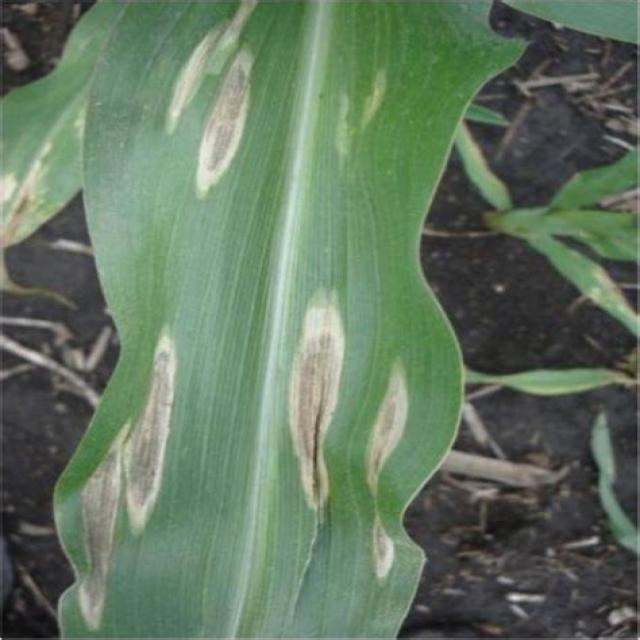blight: (36, 330, 216, 640), (258, 270, 426, 499), (150, 15, 294, 205)
